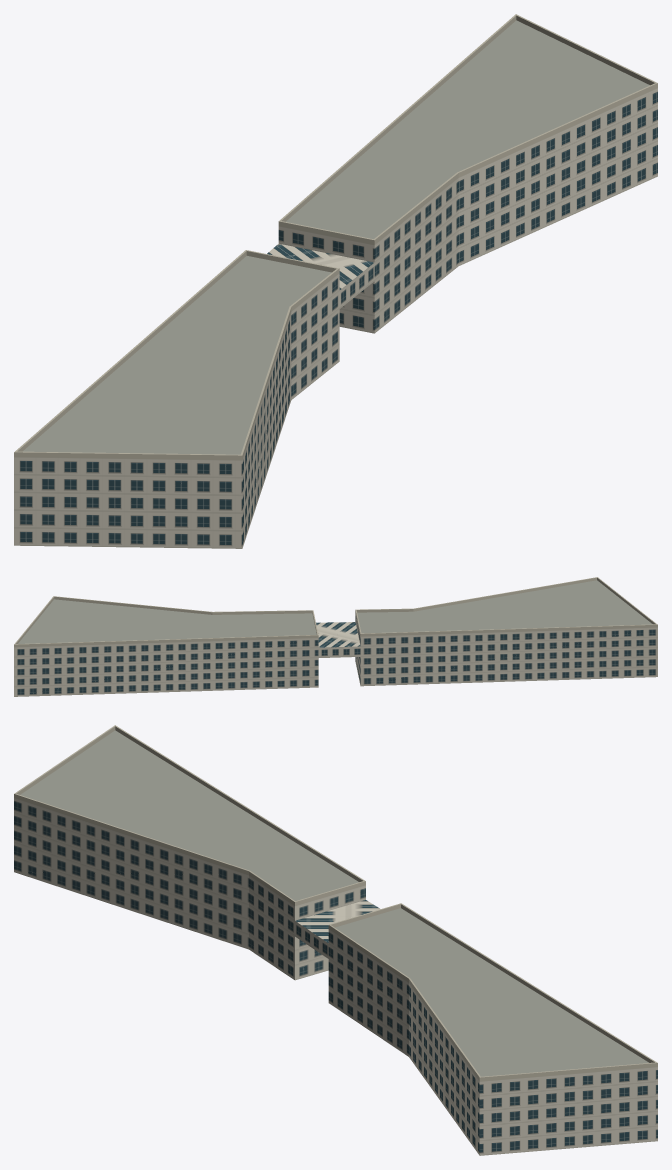
3 renders of one model, top to bottom at view 1: azimuth 30°, elevation 25°; view 2: azimuth 150°, elevation 25°; view 3: azimuth 270°, elevation 25°, orthographic. The views are drawn at different scales.
Visible parts, largest first — view 1: B14_admin, B14_admin_1, B14_admin_parapet_1, B14_admin_parapet, B14_admin_upper_bridge; view 2: B14_admin_1, B14_admin, B14_admin_parapet_1, B14_admin_parapet, B14_admin_upper_bridge; view 3: B14_admin_1, B14_admin, B14_admin_parapet, B14_admin_parapet_1, B14_admin_upper_bridge.
Part boxes in pixels (<box>): B14_admin: <box>14,256,339,548</box>; B14_admin_1: <box>278,20,657,333</box>; B14_admin_parapet_1: <box>278,14,657,244</box>; B14_admin_parapet: <box>14,250,339,460</box>; B14_admin_upper_bridge: <box>267,243,374,308</box>; B14_admin_1: <box>14,599,318,696</box>; B14_admin: <box>355,580,657,686</box>; B14_admin_parapet_1: <box>14,596,318,647</box>; B14_admin_parapet: <box>355,577,657,636</box>; B14_admin_upper_bridge: <box>316,622,360,657</box>; B14_admin_1: <box>328,908,657,1155</box>; B14_admin: <box>14,730,365,980</box>; B14_admin_parapet: <box>14,725,365,905</box>; B14_admin_parapet_1: <box>328,903,657,1081</box>; B14_admin_upper_bridge: <box>295,900,380,958</box>.
Bounding box in the file's own units: 153 × 15.8 × 118.
Materials: 3 (1 with a texture image).
